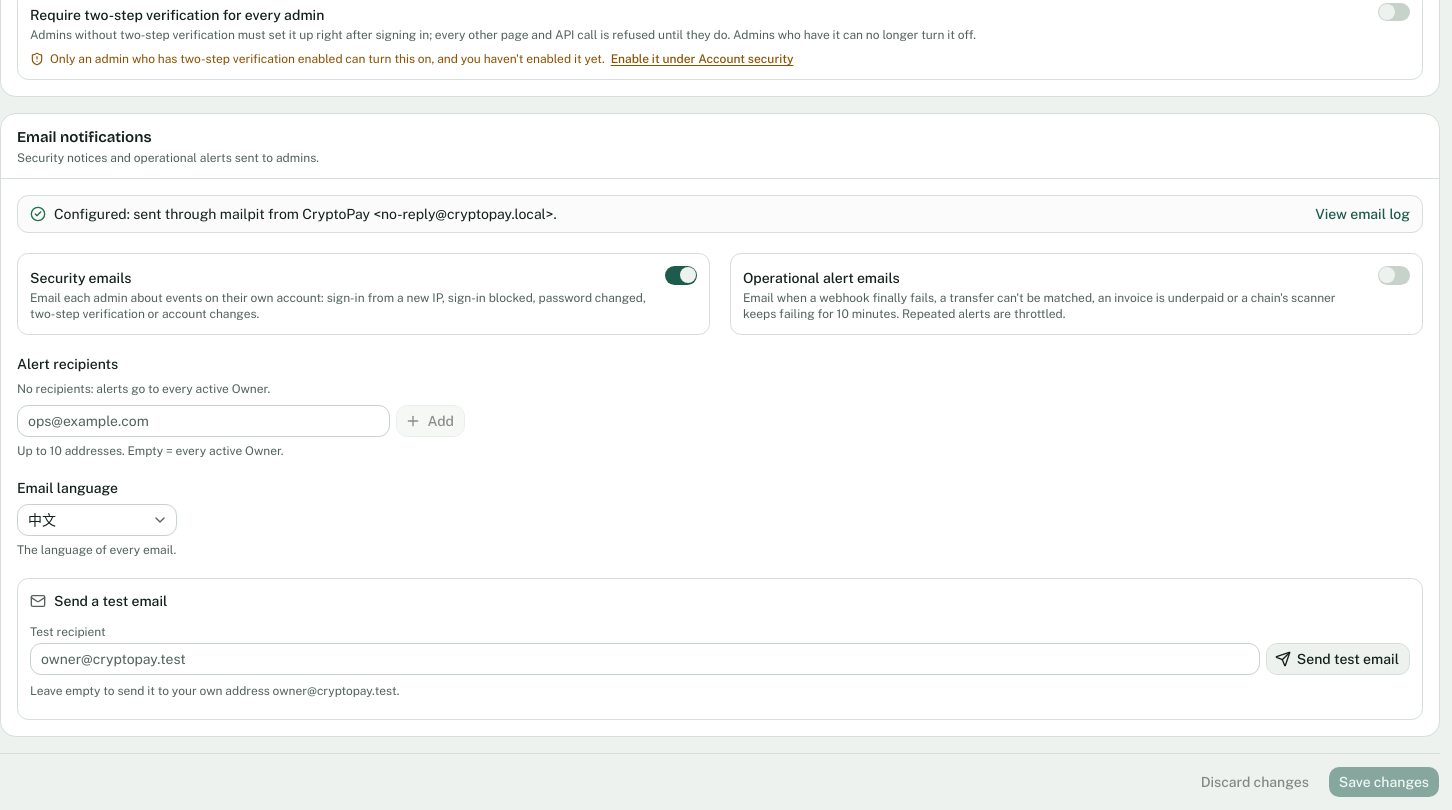
Scenario: SettingsForm · security and email › sends a test email and shows the outcome
The width and height of the screenshot is (1452, 810).
(page scrolled)
Click the button "Send test email" at (1338, 659), box [1266,643,1410,675]
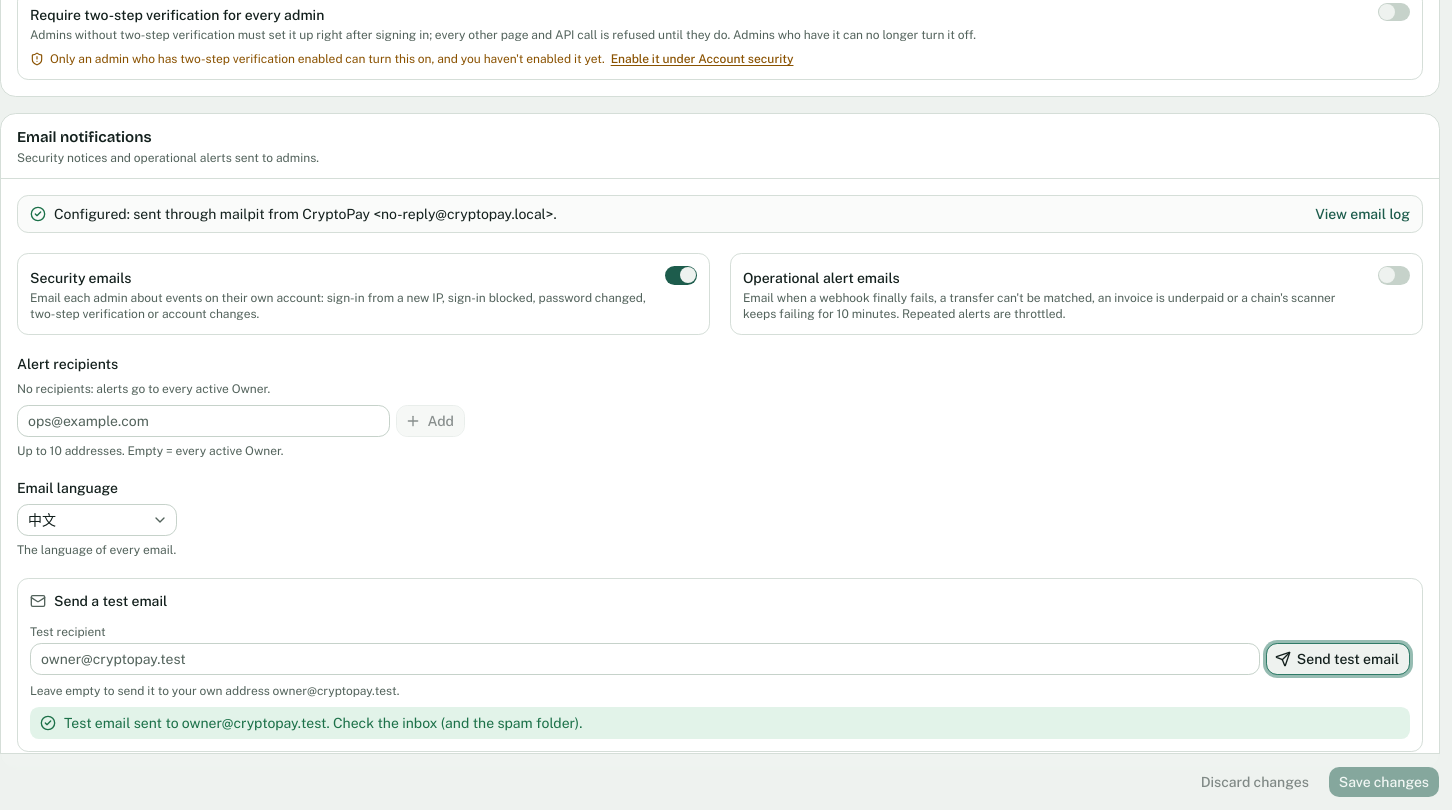
Expected: the element with test id "test-email-result" shows "Test email sent to owner@cryptopay.test.", [64,715,582,731]
Type "bounce@example.com" into the field labelled "Test recipient" at (645, 659), box [30,643,1260,675]
Then press Enter
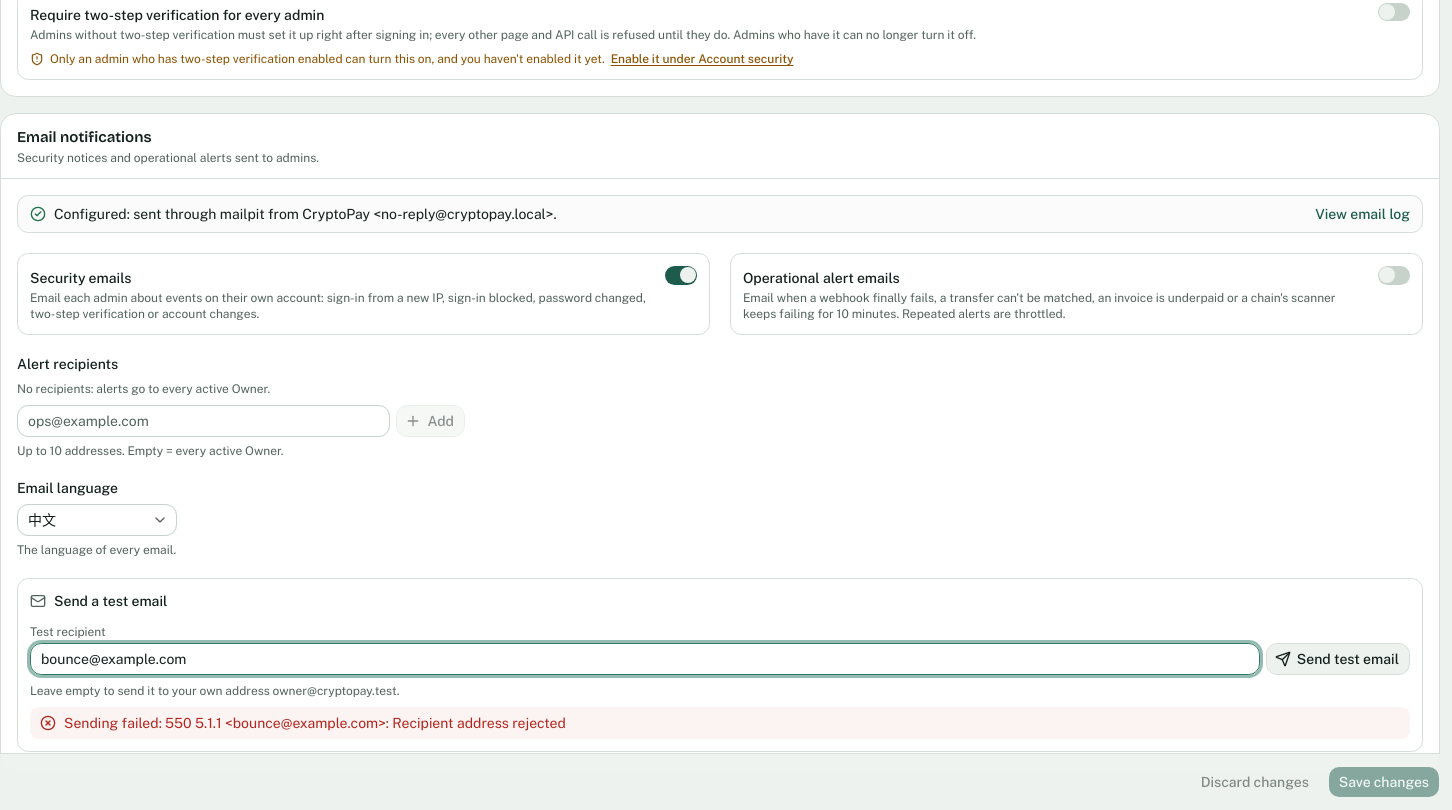
Expected: the text "Sending failed: 550 5.1.1 <bounce@example.com>: Recipient address rejected" is shown, [64,713,566,733]
Click the button "Send test email" at (1338, 659), box [1266,643,1410,675]
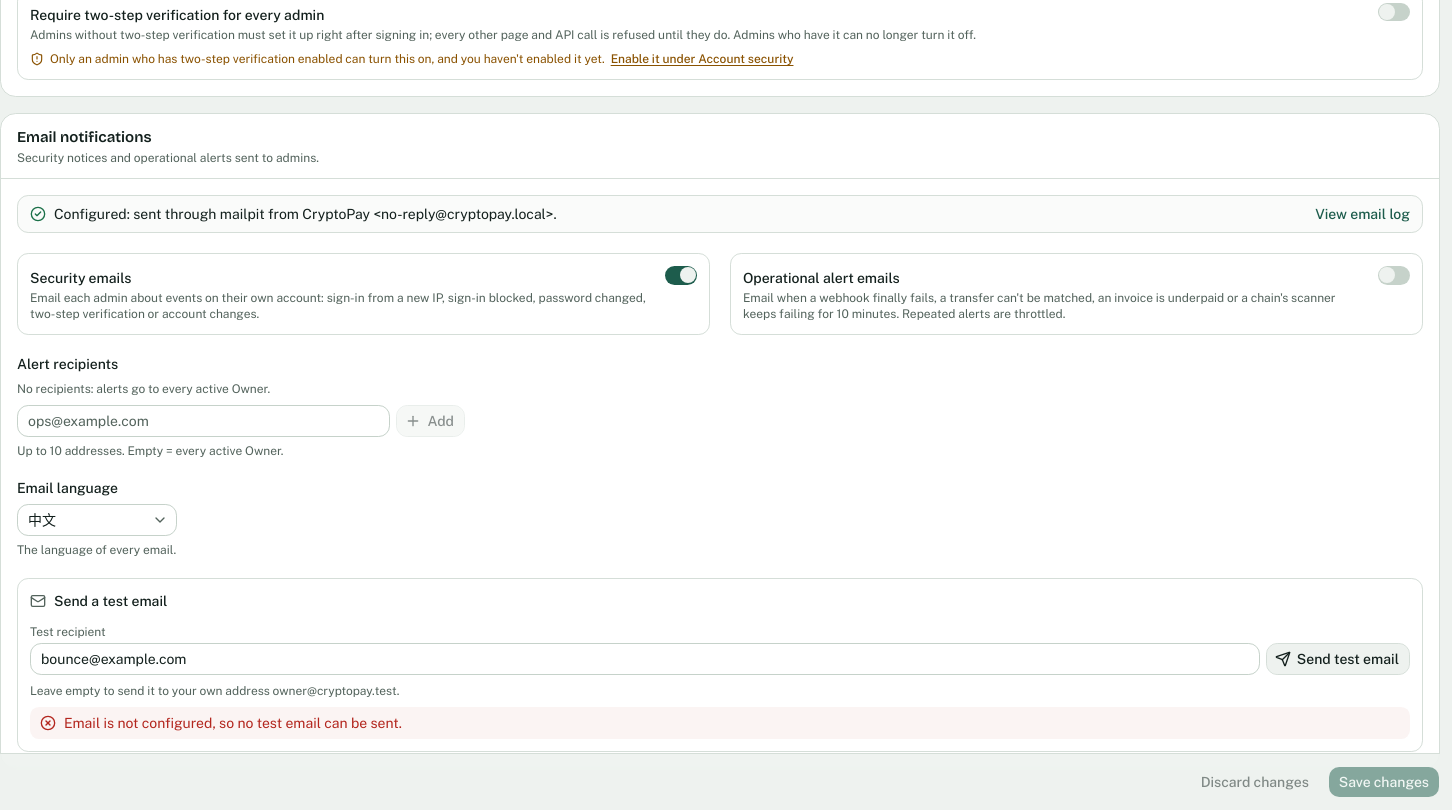
Expected: the text "Email is not configured, so no test email can be sent." is shown, [64,713,402,733]
